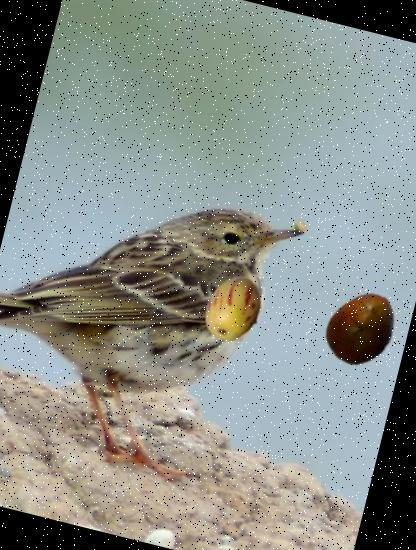Mango: (315, 281, 410, 376)
Pepino: (192, 269, 274, 350)
